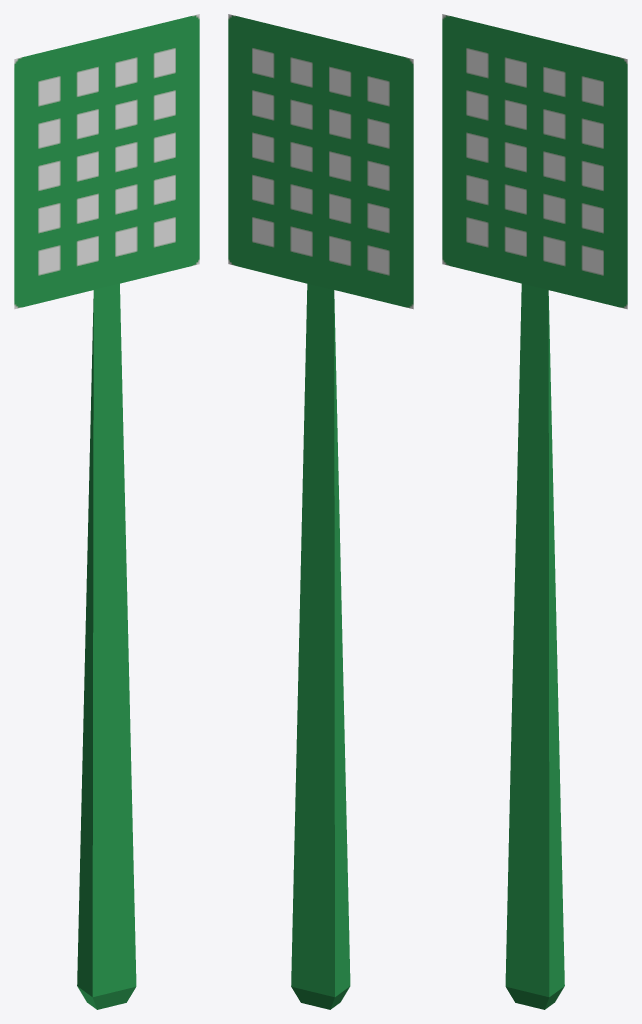
File: flapper.fbx
3 renders of one model, left to right at view 1: azimuth 30°, elevation 25°; view 2: azimuth 150°, elevation 25°; view 3: azimuth 330°, elevation 25°, orthographic.
Visible parts, largest first — view 1: flapper.001; view 2: flapper.001; view 3: flapper.001.
Boxes of the visible parts, x1,y1,x2,y2 form: flapper.001: [14, 14, 199, 1009]; flapper.001: [228, 14, 413, 1009]; flapper.001: [442, 14, 627, 1009].
Bounding box in the file's own units: 0.147 × 0.7319 × 0.0212.
1 material, 1 textured.
